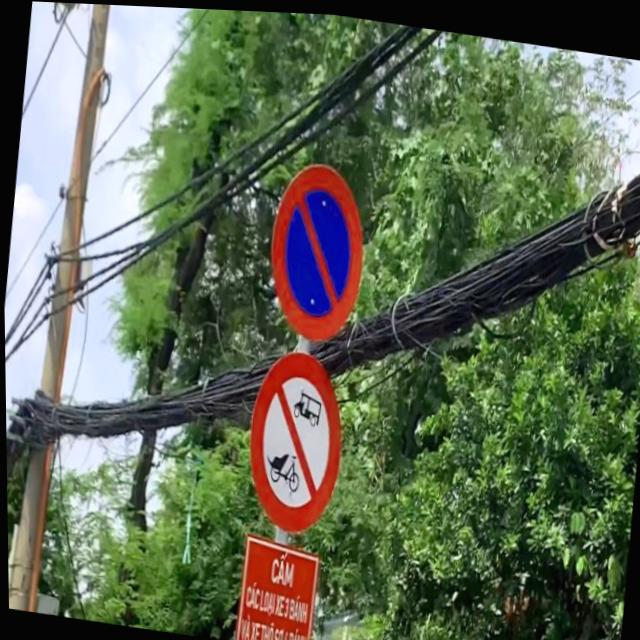Cam do xe: (259, 153, 374, 346)
